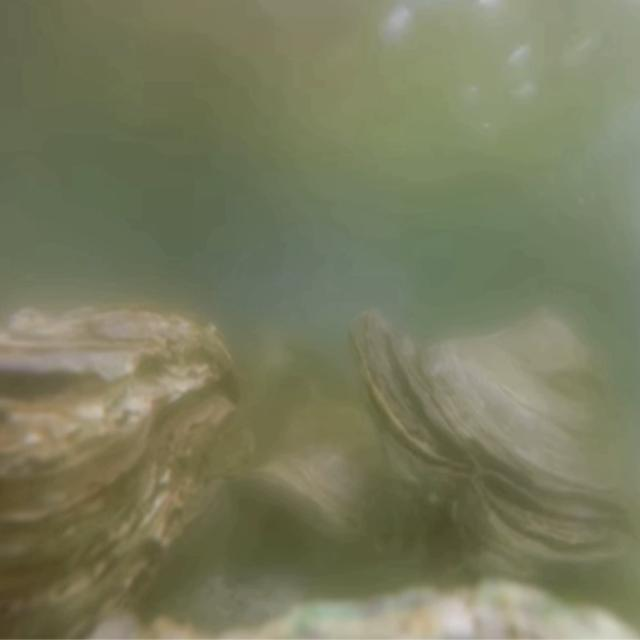Oyster-Closed: (0, 302, 257, 640), (347, 307, 640, 580)
Oyster-Indeterminate: (230, 398, 403, 559)
